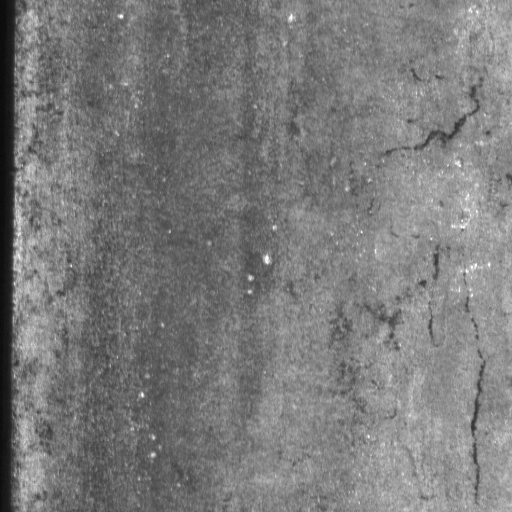zongxianghuashang: (382, 76, 484, 160)
zongxiangliewen: (461, 264, 486, 505), (426, 239, 442, 347)
